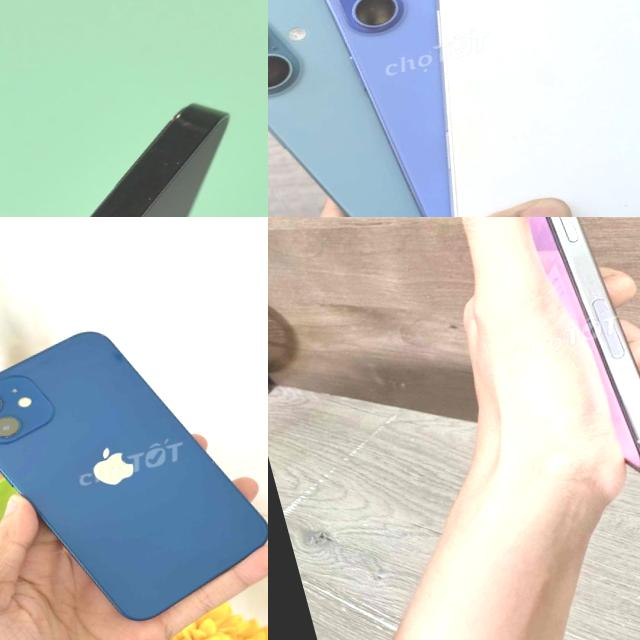gen_12_13: (0, 291, 268, 640)
gen_15: (475, 217, 640, 495)
gen_16: (379, 0, 640, 217)
